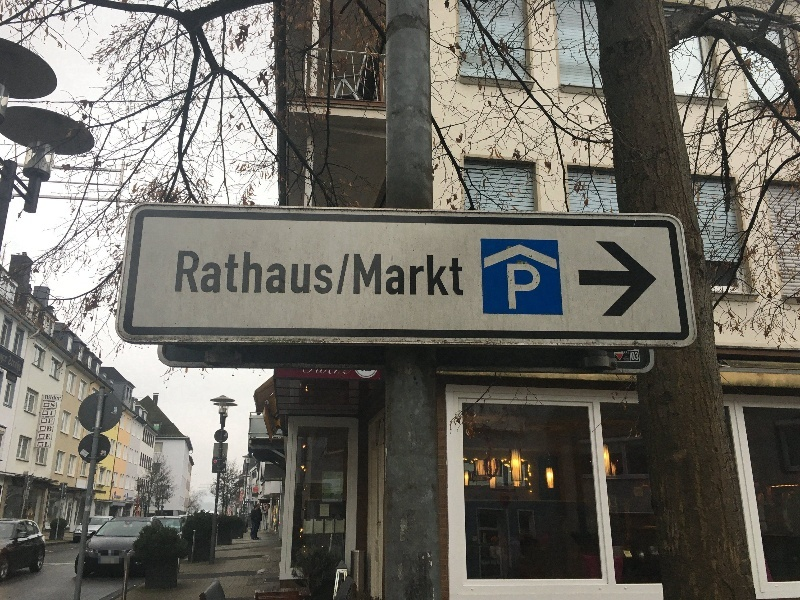text: (193, 252, 208, 298), (209, 252, 224, 298), (225, 252, 240, 298), (241, 252, 256, 298), (257, 252, 272, 298), (273, 252, 288, 298), (289, 252, 304, 298), (305, 252, 320, 298), (321, 252, 336, 298), (337, 252, 352, 298), (353, 252, 368, 298), (369, 252, 384, 298), (385, 252, 400, 298), (401, 252, 416, 298), (417, 252, 432, 298), (433, 252, 448, 298), (449, 252, 464, 298), (513, 264, 528, 310), (178, 252, 192, 298), (529, 264, 541, 310), (49, 403, 56, 448), (507, 264, 512, 310), (45, 403, 48, 448), (229, 508, 240, 516), (631, 352, 640, 361), (305, 370, 320, 375), (321, 370, 336, 375), (337, 370, 352, 375), (49, 396, 63, 401), (465, 252, 466, 298), (625, 356, 640, 358), (45, 396, 48, 401), (302, 370, 304, 375), (625, 352, 630, 354), (625, 358, 630, 360), (625, 359, 630, 361), (254, 488, 256, 490), (254, 490, 256, 492), (257, 488, 258, 490), (257, 490, 258, 492)
